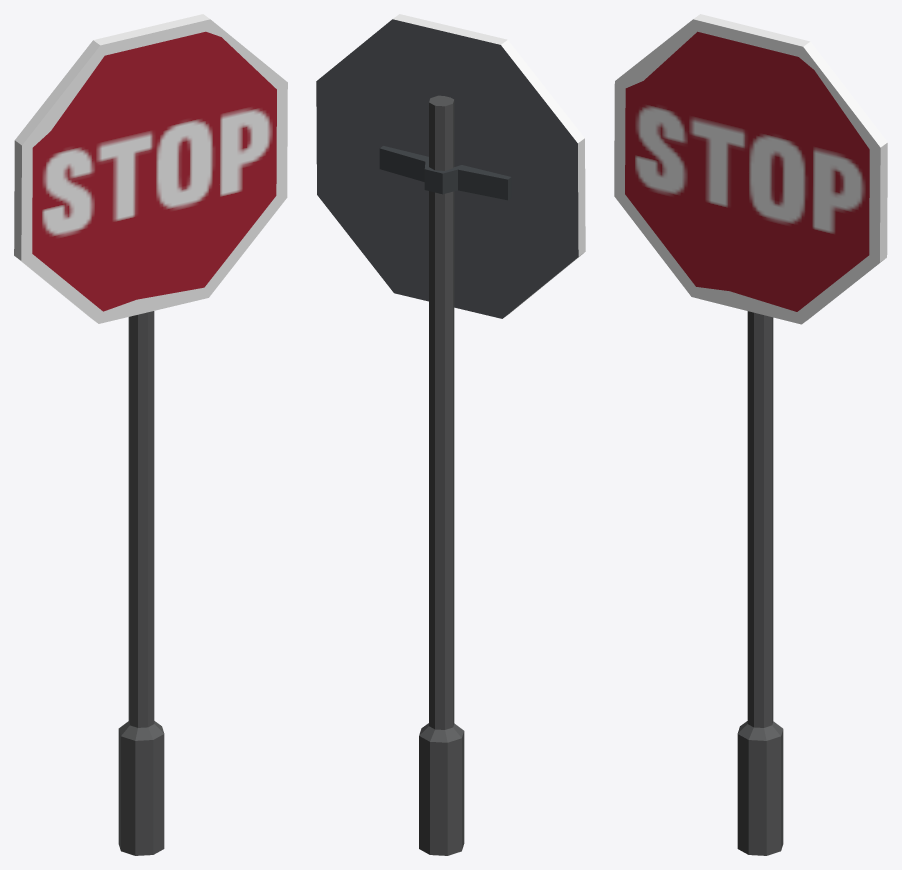
The model's file is SM_Prop_Sign_Stop_01.fbx.
3 renders of one model, left to right at view 1: azimuth 30°, elevation 25°; view 2: azimuth 150°, elevation 25°; view 3: azimuth 330°, elevation 25°, orthographic.
Visible parts, largest first — view 1: SM_Prop_Sign_Stop_01; view 2: SM_Prop_Sign_Stop_01; view 3: SM_Prop_Sign_Stop_01.
Part boxes in pixels (<box>): SM_Prop_Sign_Stop_01: <box>14,14,287,855</box>; SM_Prop_Sign_Stop_01: <box>316,14,585,855</box>; SM_Prop_Sign_Stop_01: <box>614,14,887,855</box>.
Size of the model in its own units: 76.91 by 227 by 12.49.
